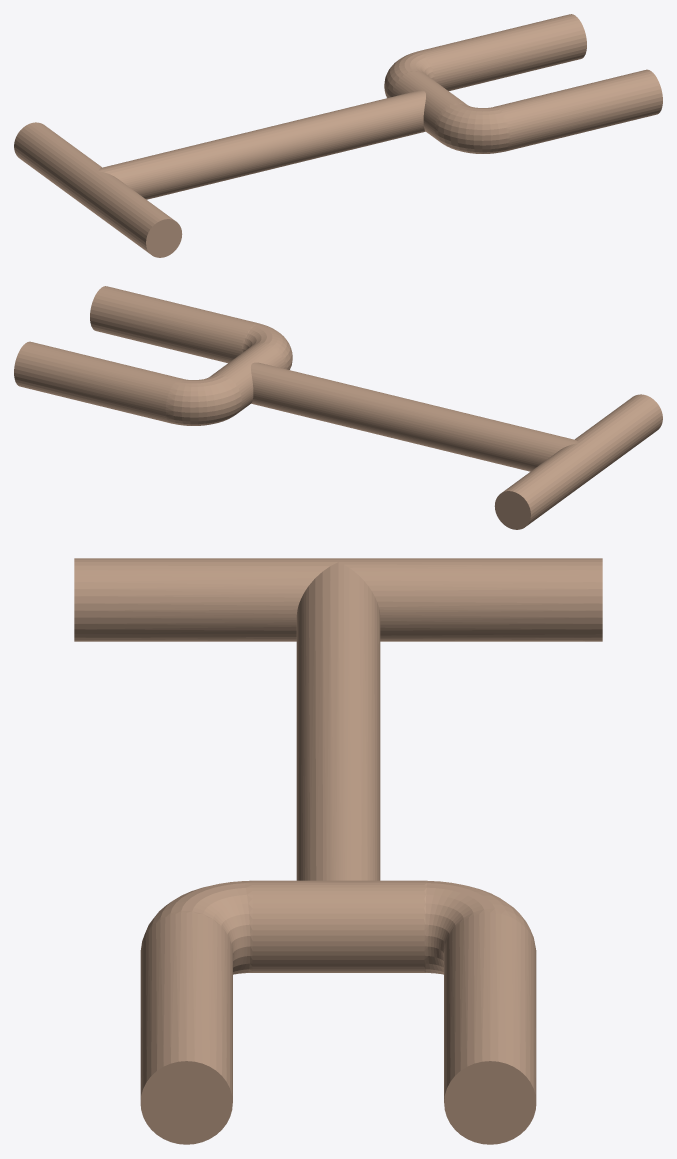
The model's file is TBarForkTool.dae.
The picture shows the model from 3 angles, top to bottom: view 1: azimuth 30°, elevation 25°; view 2: azimuth 150°, elevation 25°; view 3: azimuth 270°, elevation 25°; orthographic projection. The views are drawn at different scales.
Parts seen in each view (by area): view 1: ShapeIndexedFaceSet; view 2: ShapeIndexedFaceSet; view 3: ShapeIndexedFaceSet.
Part boxes in pixels (x1,y1,x2,y2): ShapeIndexedFaceSet: (14, 14, 662, 257); ShapeIndexedFaceSet: (14, 286, 662, 529); ShapeIndexedFaceSet: (74, 558, 602, 1144).
Bounding box in the file's own units: 0.28 × 0.12 × 0.021.
